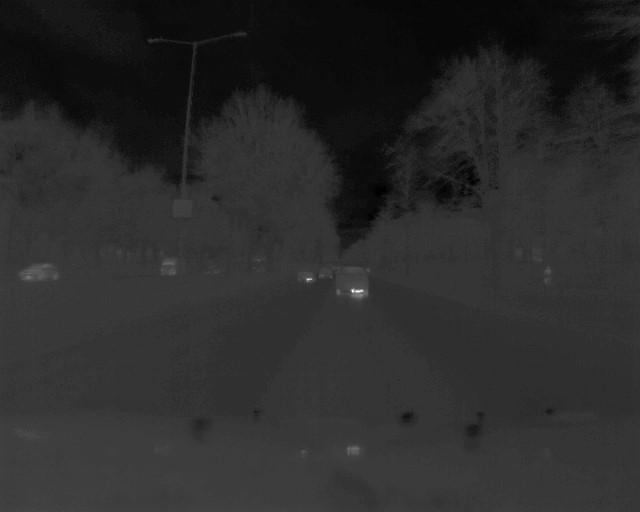car: (333, 262, 371, 304), (19, 262, 61, 283), (160, 256, 181, 278)
